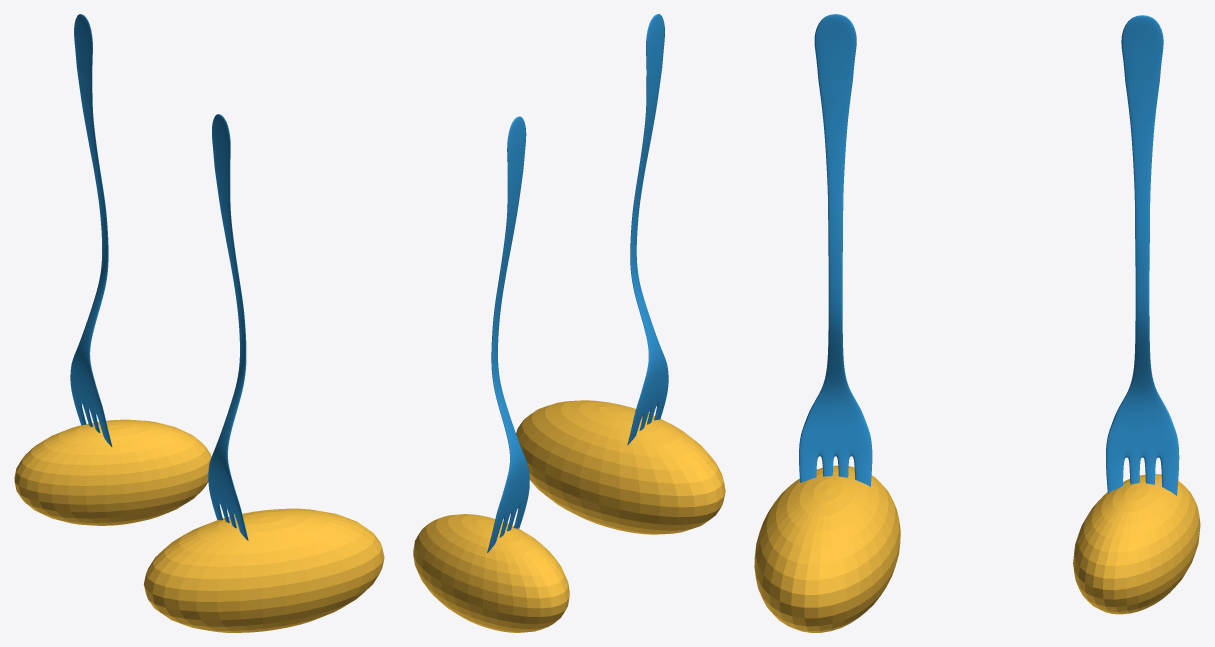
Rendered from potatoes.glb.
3 renders of one model, left to right at view 1: azimuth 30°, elevation 25°; view 2: azimuth 150°, elevation 25°; view 3: azimuth 270°, elevation 25°, orthographic. The views are drawn at different scales.
Parts seen in each view (by area): view 1: Sphere, Sphere.001; view 2: Sphere, Sphere.001; view 3: Sphere, Sphere.001.
Boxes of the visible parts, box(x1,y1,x2,y2) form: Sphere: box(143, 114, 384, 632); Sphere.001: box(14, 14, 211, 525); Sphere: box(516, 14, 725, 534); Sphere.001: box(413, 116, 569, 632); Sphere: box(754, 14, 900, 632); Sphere.001: box(1073, 15, 1200, 614).
Size of the model in its own units: 1.09 by 2.5 by 1.76.
